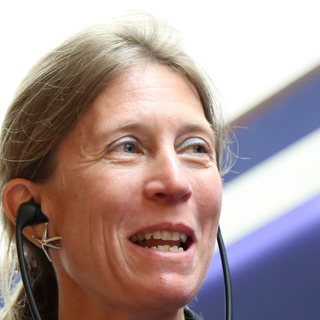eye: (100, 132, 147, 159), (174, 134, 213, 162)
